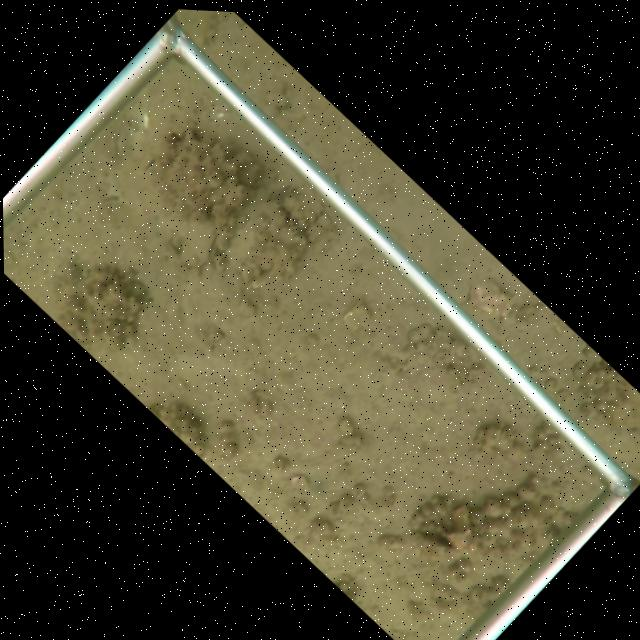Oyster-Closed: (152, 188, 221, 270)
Oyster-Open: (410, 521, 458, 562)
